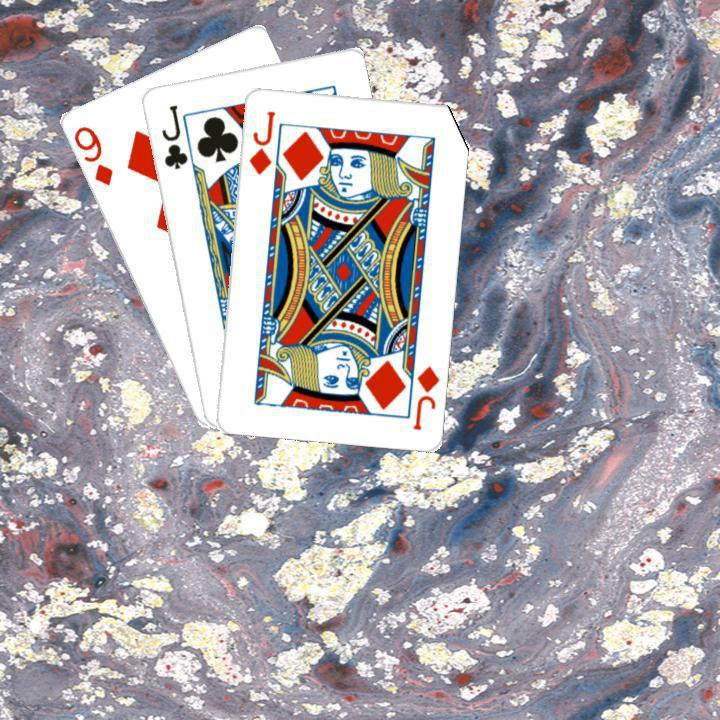9: (68, 121, 115, 188)
J: (156, 100, 189, 171), (244, 106, 277, 177), (408, 361, 441, 431)
